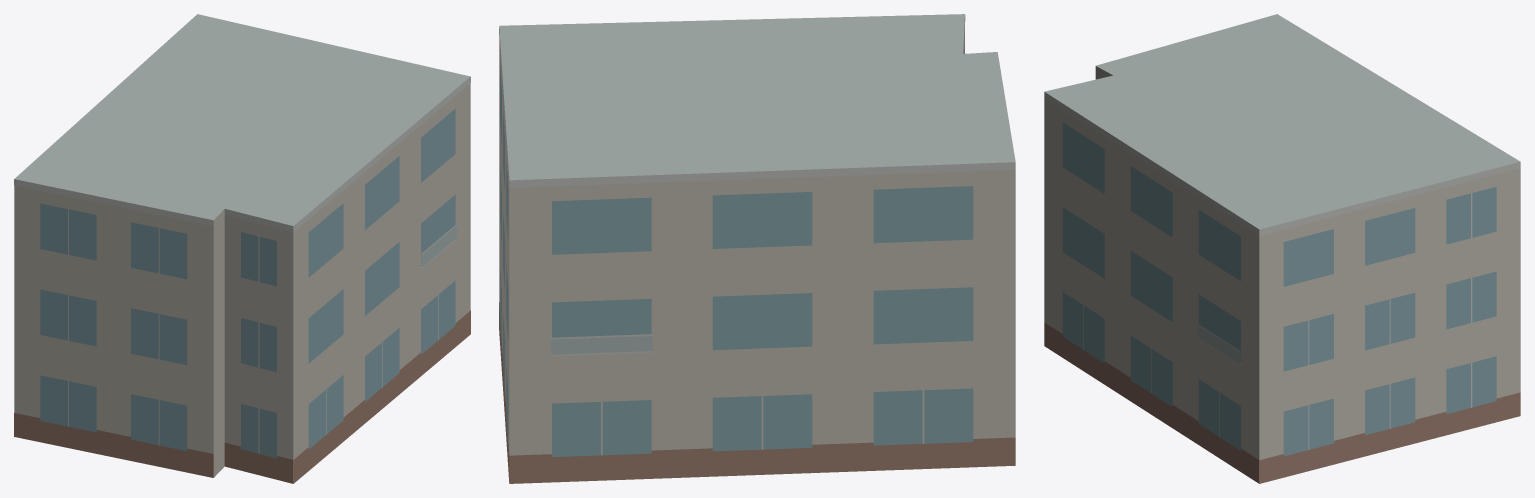
Rendered from survey-upis-32987353.glb.
3 views of the same model, side by side, from view 1: azimuth 30°, elevation 25°; view 2: azimuth 150°, elevation 25°; view 3: azimuth 270°, elevation 25° (orthographic). The views are drawn at different scales.
Parts seen in each view (by area): view 1: survey-upis-32987353.tmp; view 2: survey-upis-32987353.tmp; view 3: survey-upis-32987353.tmp.
Boxes of the visible parts, x1=… form: survey-upis-32987353.tmp: x1=14, y1=14, x2=470, y2=483; survey-upis-32987353.tmp: x1=499, y1=14, x2=1015, y2=483; survey-upis-32987353.tmp: x1=1044, y1=14, x2=1520, y2=483.
Size of the model in its own units: 17.86 by 9.82 by 16.68.
